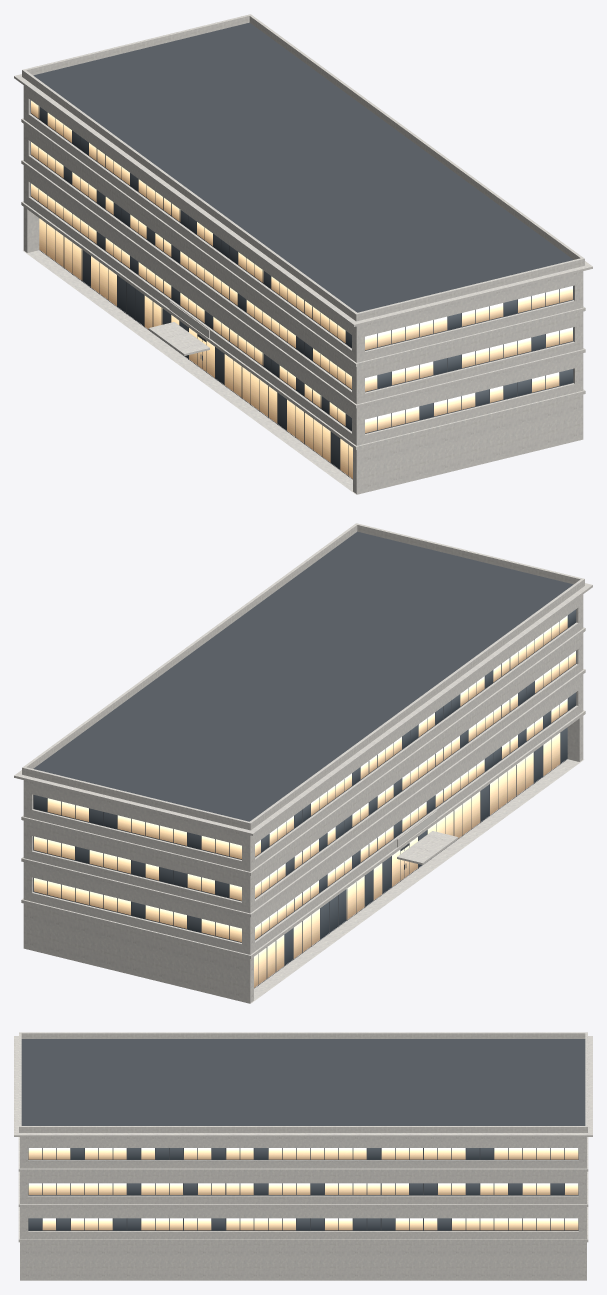
Rendered from campus_modern.glb.
3 views of the same model, one above another, from view 1: azimuth 30°, elevation 25°; view 2: azimuth 150°, elevation 25°; view 3: azimuth 270°, elevation 25° (orthographic). The views are drawn at different scales.
Visible parts, largest first — view 1: soc_wall, soc_metal, soc_glass; view 2: soc_wall, soc_metal, soc_glass; view 3: soc_wall, soc_metal, soc_glass.
Boxes of the visible parts, x1,y1,x2,y2 form: soc_wall: (14, 14, 592, 494); soc_metal: (30, 22, 573, 479); soc_glass: (31, 100, 572, 478); soc_wall: (14, 523, 592, 1003); soc_metal: (33, 531, 576, 988); soc_glass: (34, 609, 575, 987); soc_wall: (14, 1032, 592, 1280); soc_metal: (21, 1039, 585, 1230); soc_glass: (28, 1148, 578, 1230).
Bounding box in the file's own units: 24.9 × 16.8 × 57.2.
4 materials, 1 textured.
